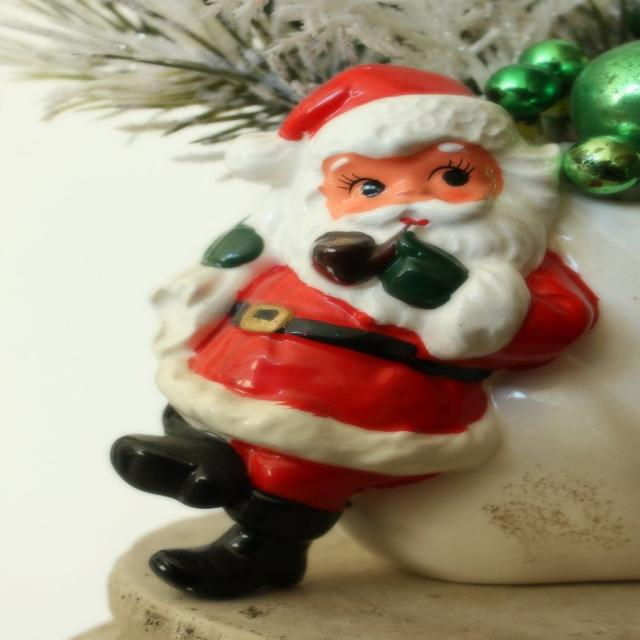Toy: (107, 61, 603, 600)
